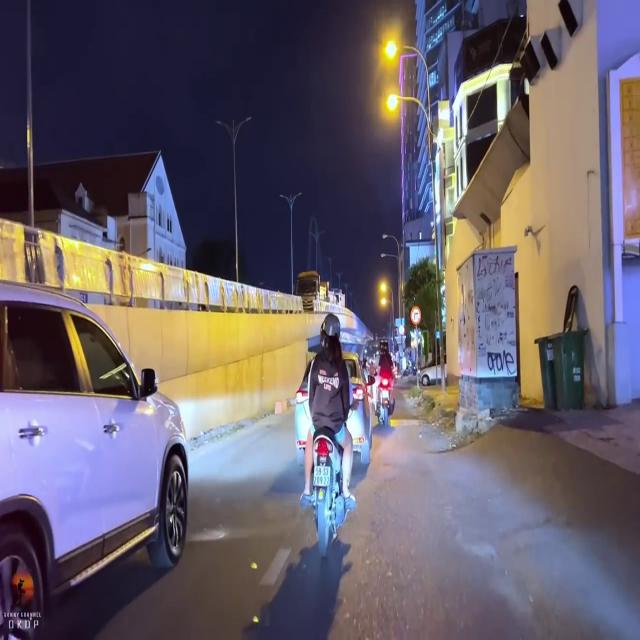bien_trang: (315, 465, 330, 485)
